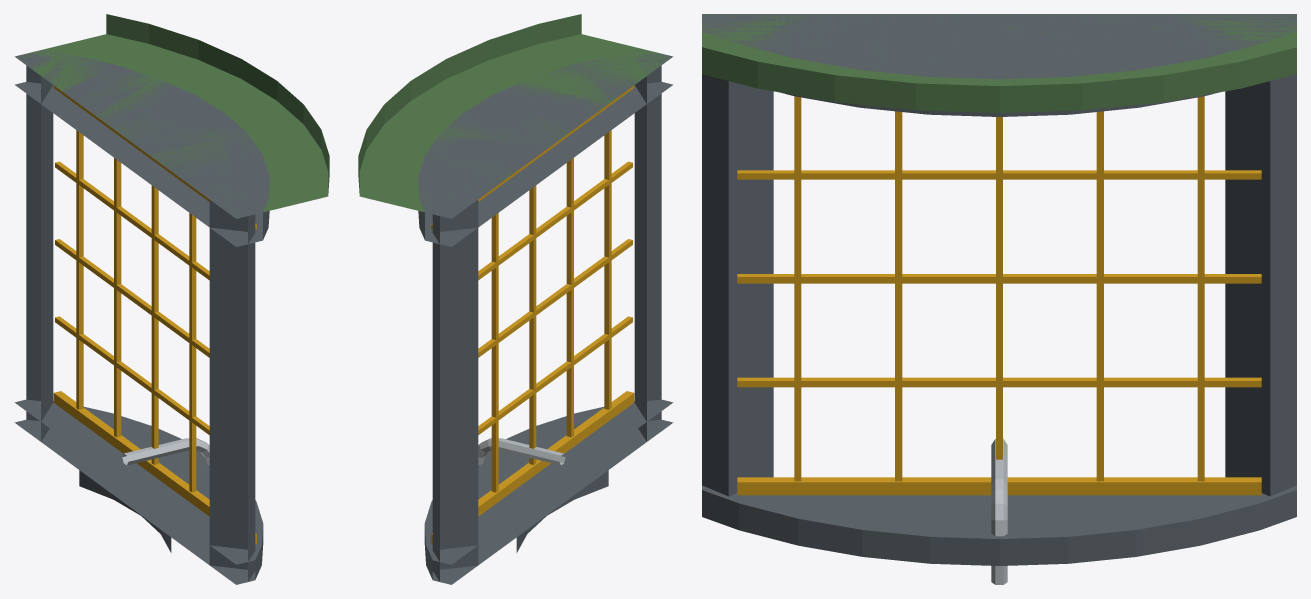
File: cell_23.obj
The picture shows the model from 3 angles, left to right: view 1: azimuth 30°, elevation 25°; view 2: azimuth 150°, elevation 25°; view 3: azimuth 270°, elevation 25°; orthographic projection. The views are drawn at different scales.
Bounding box in the file's own units: 0.3944 × 1 × 1.
